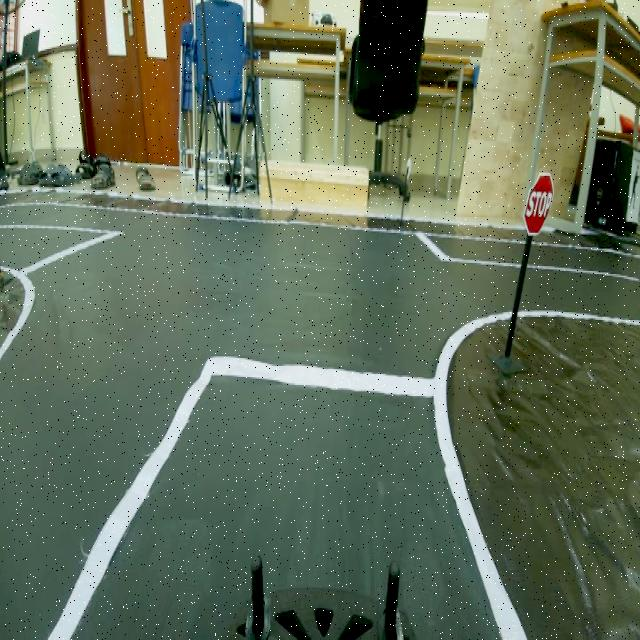stop: (522, 158, 558, 235)
